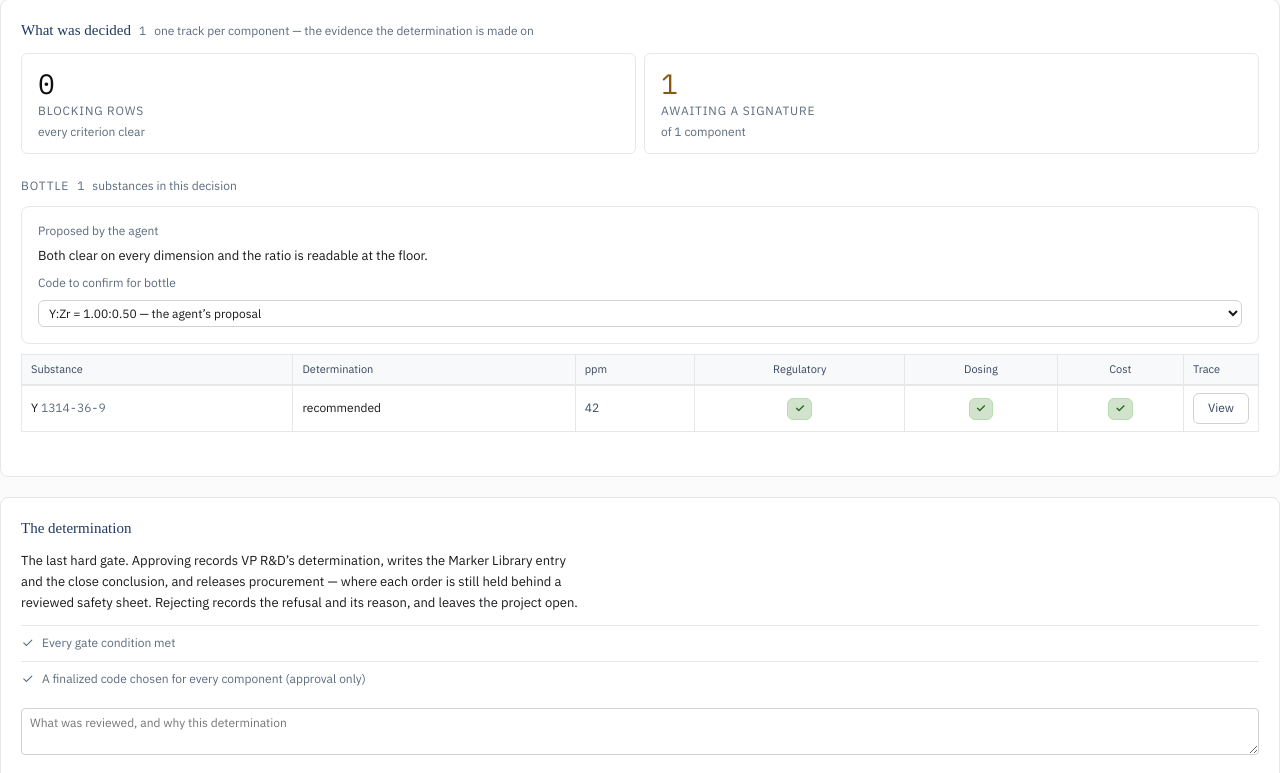
Test: Decision — recording a ruling › keeps the server refusal on screen and re-reads the gate when signing fails
Expected: the text "Proposed by the agent" is shown, [38,223,159,240]
Type "Signing off." into the text box named "determination note".
click(640, 732); type("Signing off.")  # box [21,708,1259,755]
(page scrolled)
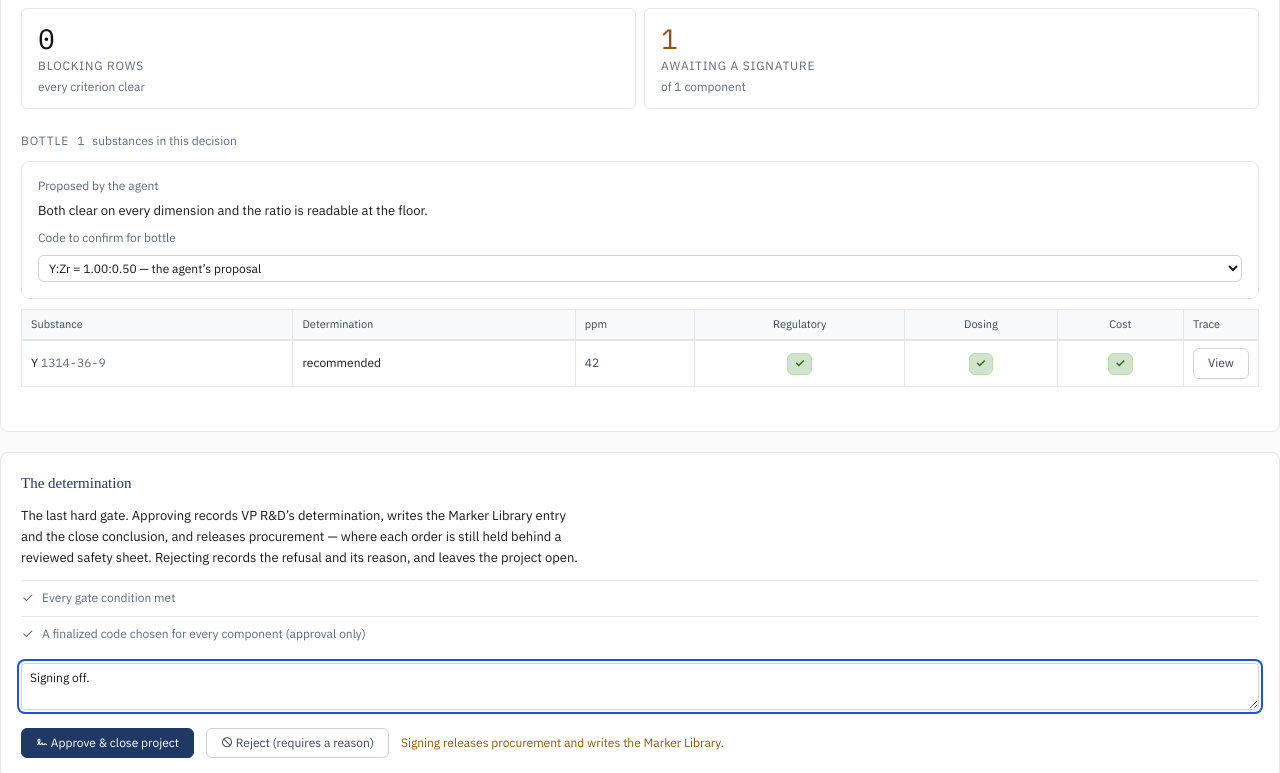
Click the button "Approve & close project".
click(108, 743)  # box [21,728,194,758]
(page scrolled)
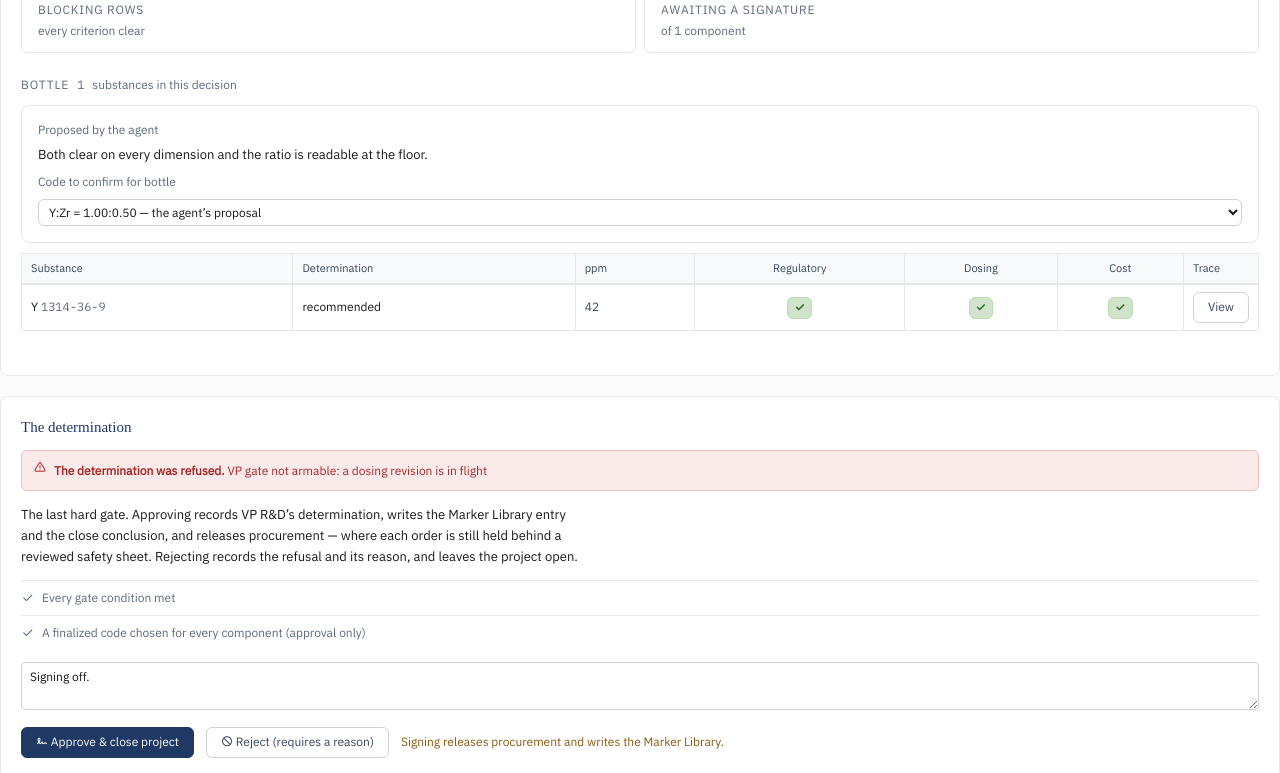
Now the text "a dosing revision is in flight" is shown, box [227,463,487,478]
Now the text "The determination was refused." is shown, box [54,463,225,478]
